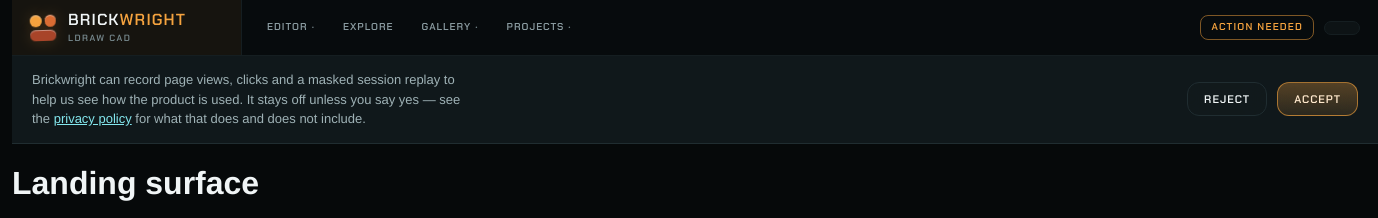
Test: client-side navigation › replaces the landing surface when Explore is selected
Check: the heading "Landing surface" is shown, box x1=12 y1=165 x2=259 y2=201
Click the link "Explore": (368, 28) x1=343 y1=21 x2=394 y2=34
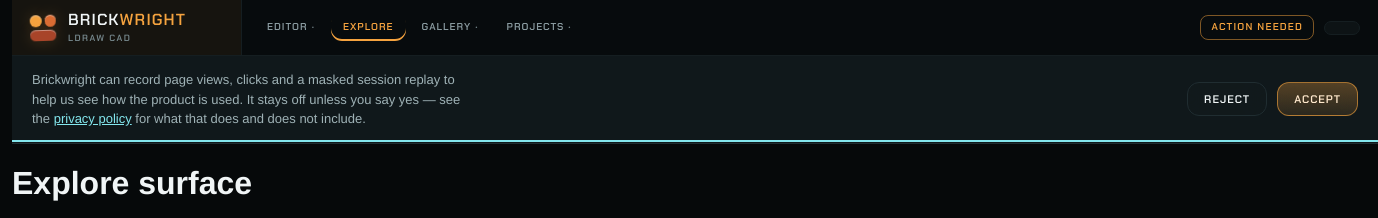
Check: the heading "Explore surface" is shown, box x1=12 y1=165 x2=252 y2=201
